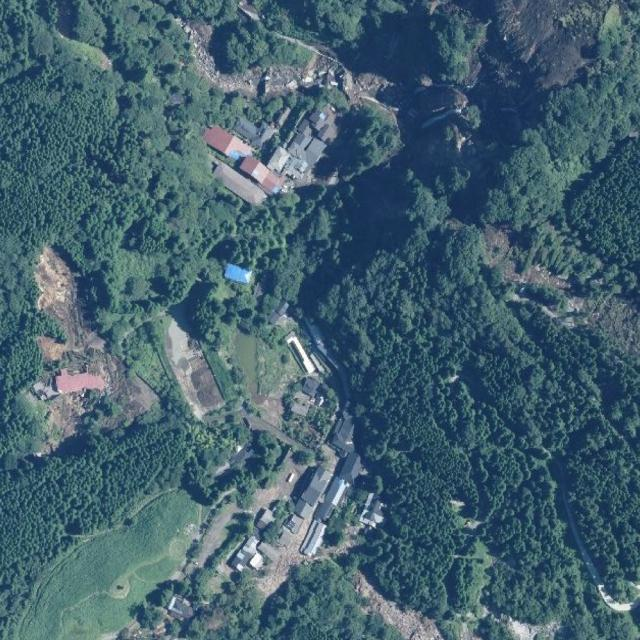landslide: (33, 246, 83, 361)
